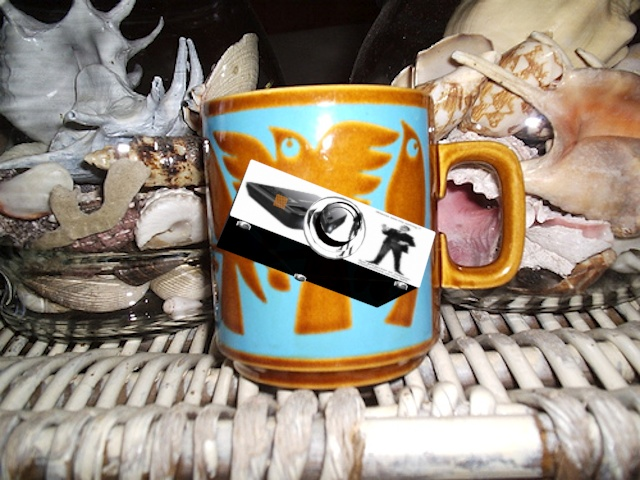projector: (217, 161, 435, 312)
